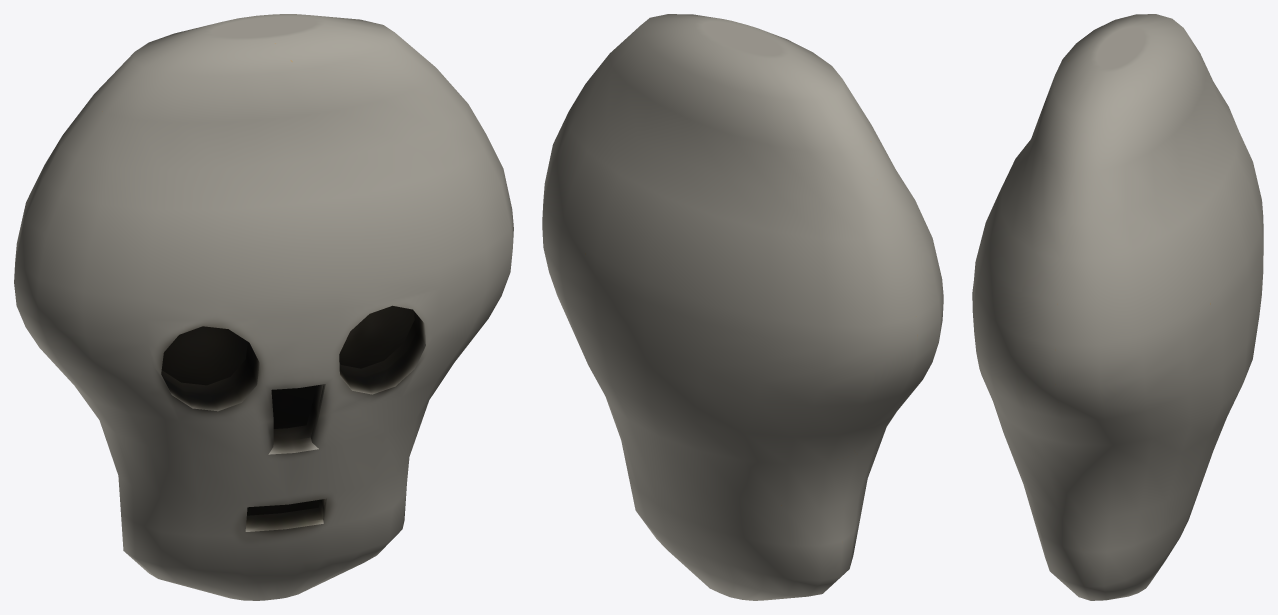
File: skull.fbx
3 views of the same model, side by side, from view 1: azimuth 30°, elevation 25°; view 2: azimuth 150°, elevation 25°; view 3: azimuth 270°, elevation 25° (orthographic). The views are drawn at different scales.
Parts seen in each view (by area): view 1: Skull; view 2: Skull; view 3: Skull.
Part boxes in pixels (bbox=[...]): Skull: bbox=[14, 14, 513, 600]; Skull: bbox=[542, 14, 943, 600]; Skull: bbox=[972, 14, 1263, 600].
Bounding box in the file's own units: 45.21 × 56.16 × 27.89.
1 material, 1 textured.
